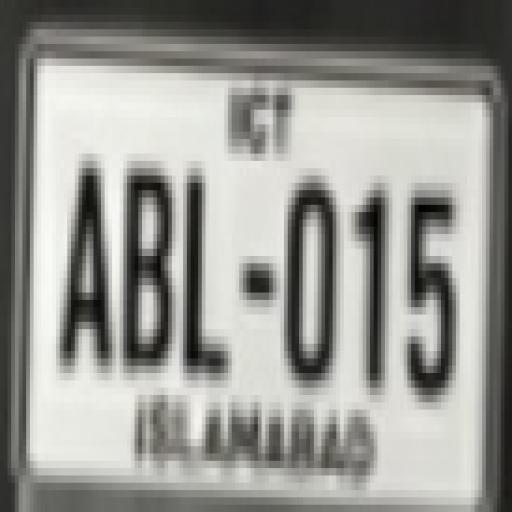0: (281, 174, 334, 388)
1: (339, 182, 394, 390)
5: (396, 188, 465, 397)
A: (54, 162, 122, 380)
B: (118, 160, 171, 375)
L: (176, 164, 235, 390)
